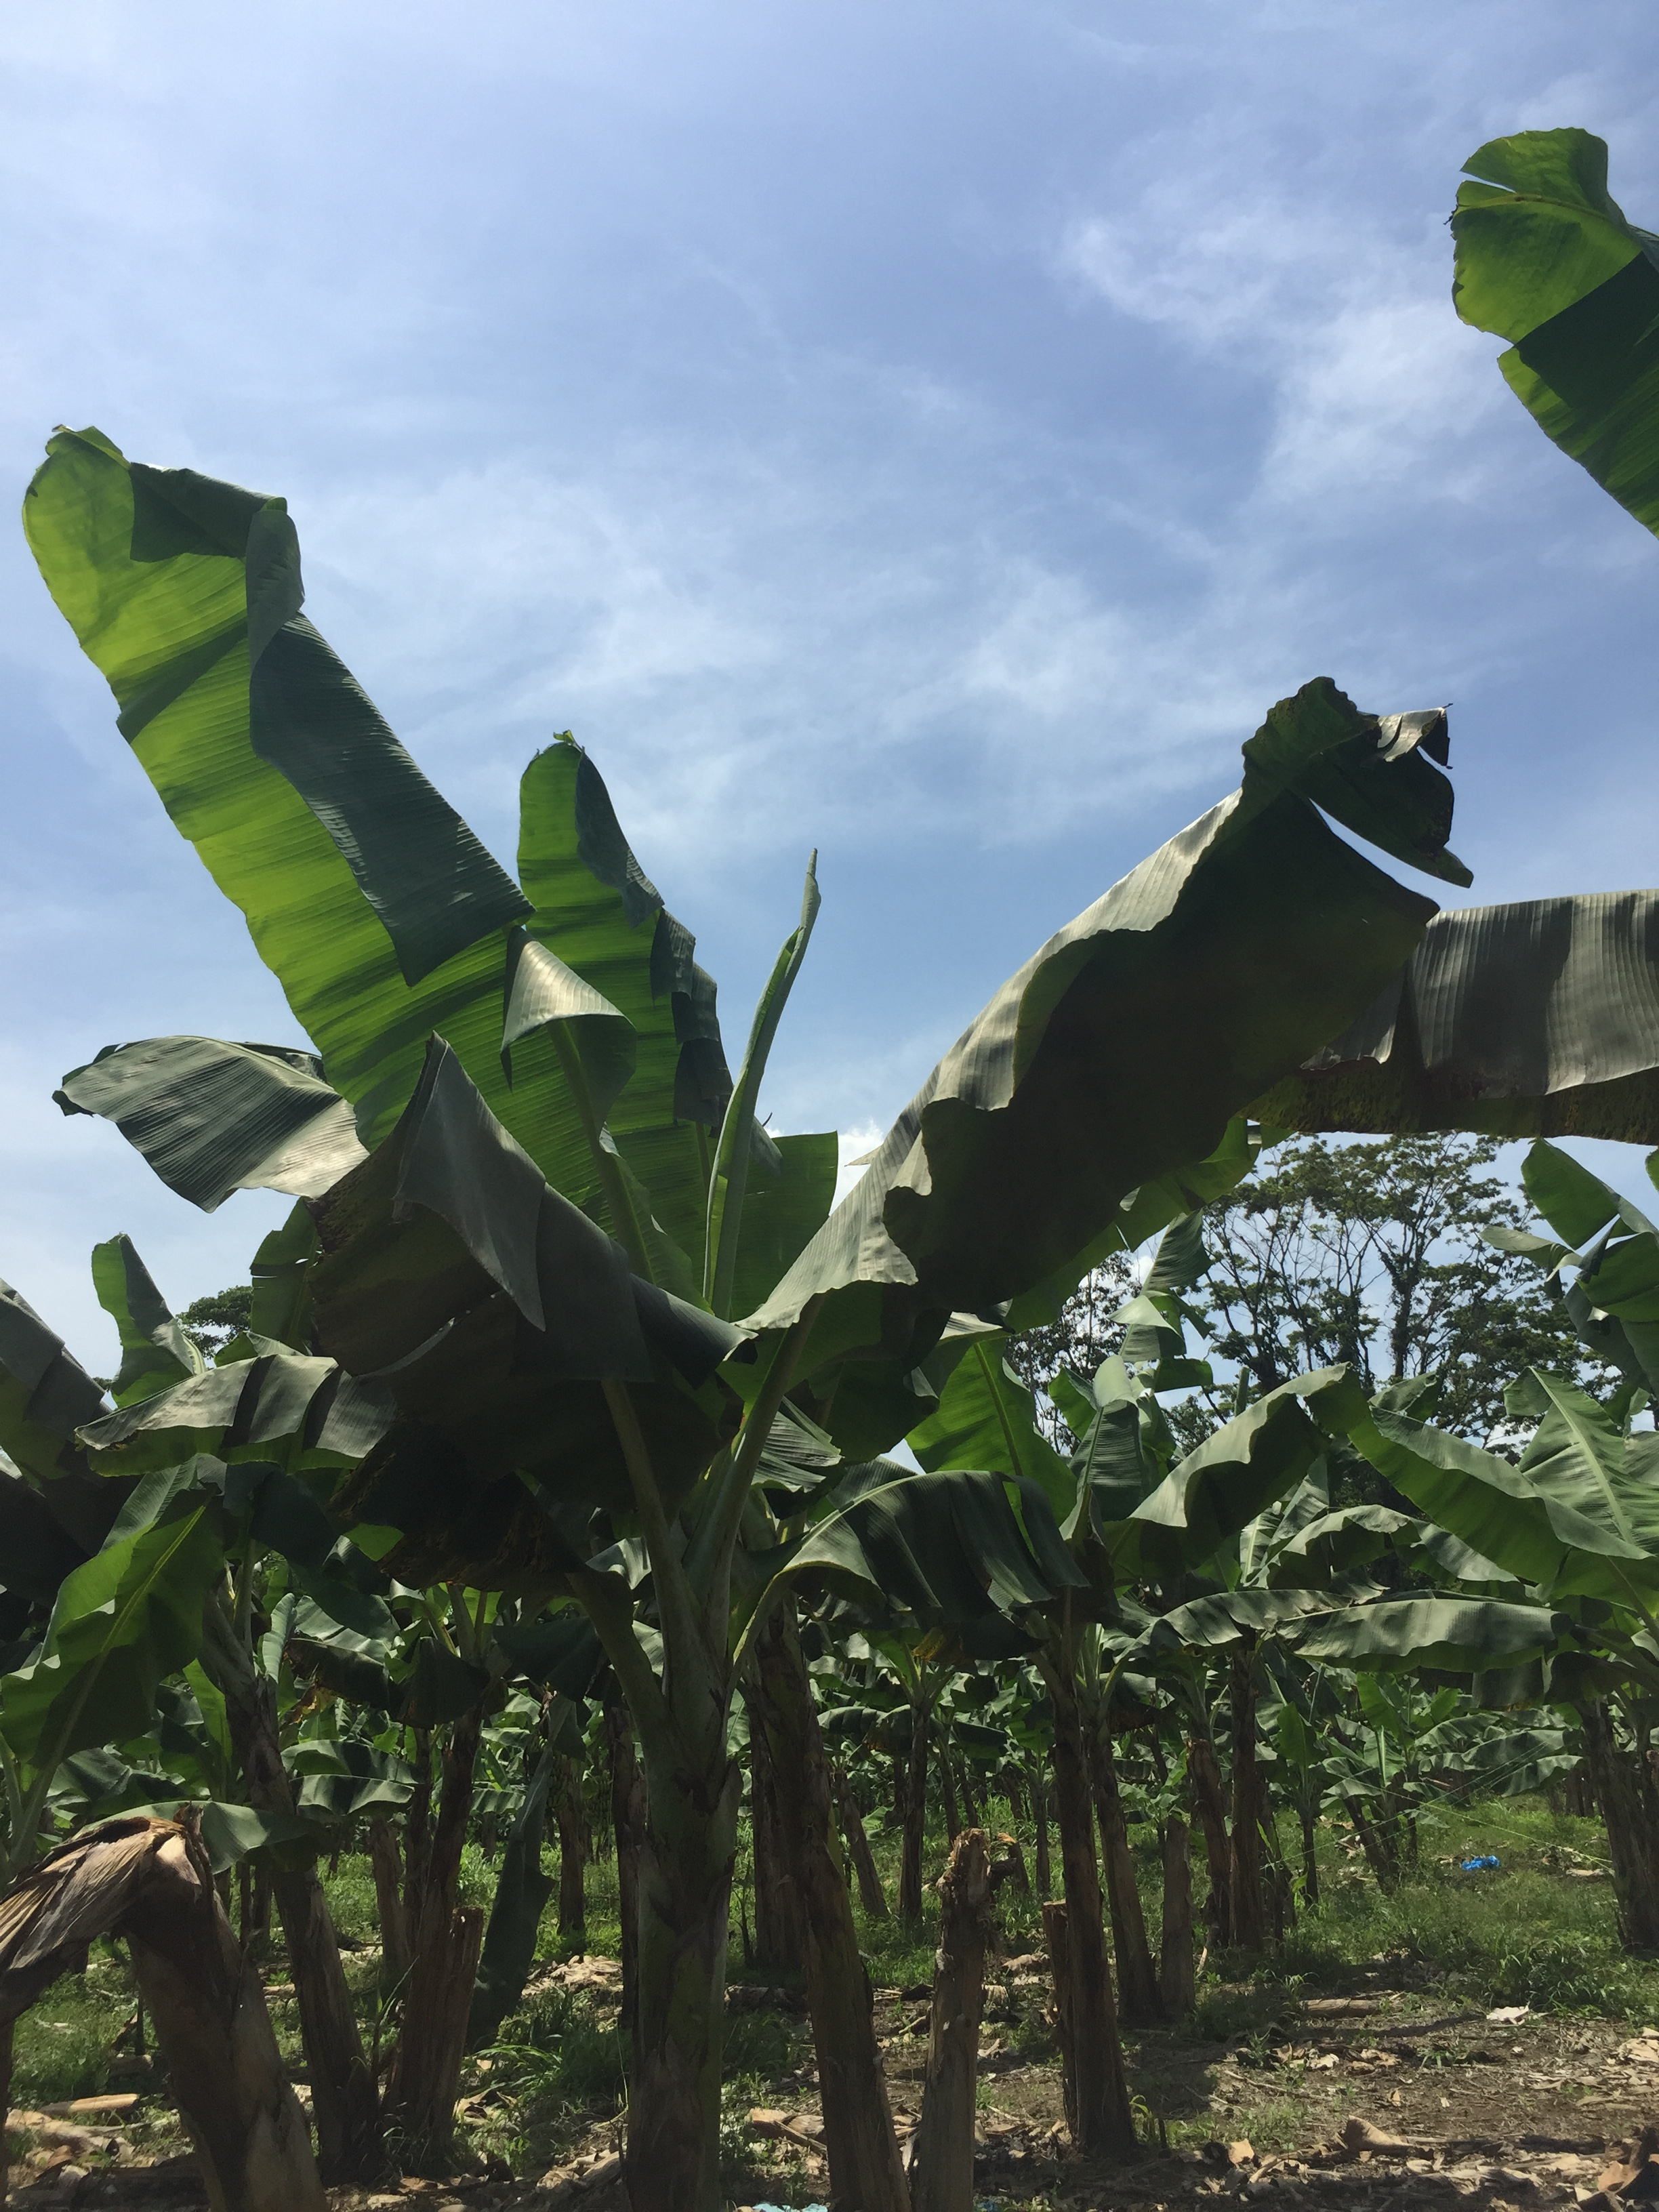candleleafs: (704, 846, 823, 1306)
